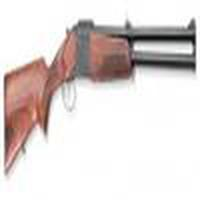gun: (4, 23, 200, 170)
